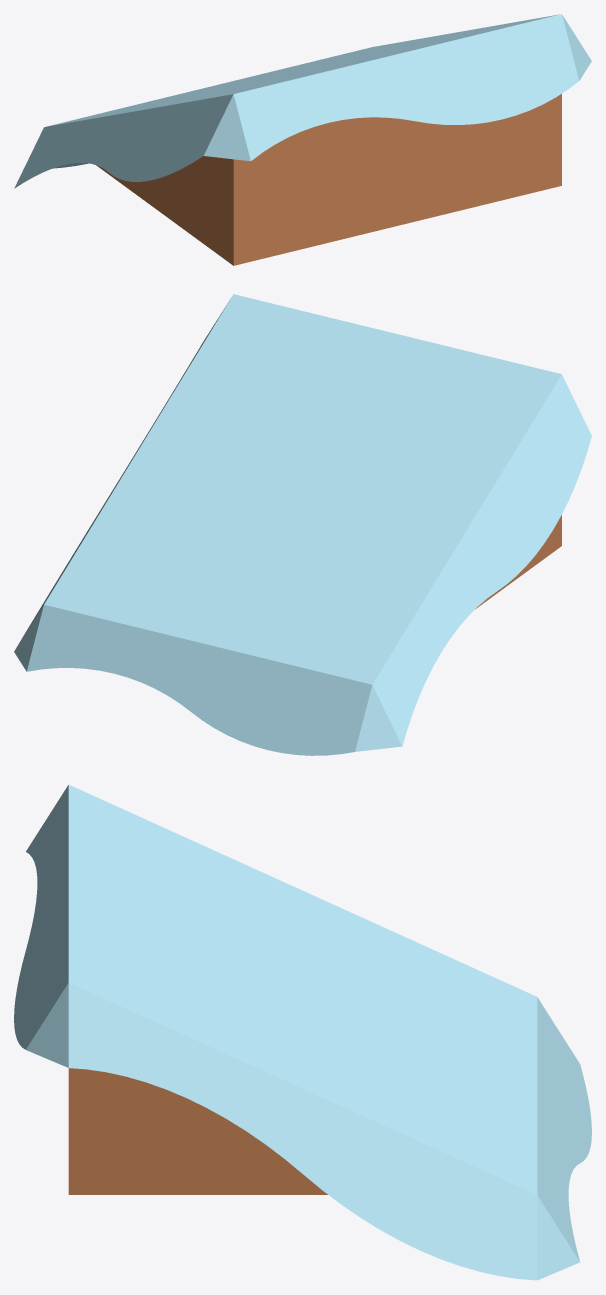
File: blockSnowSlopeHalf.glb
3 renders of one model, top to bottom at view 1: azimuth 30°, elevation 25°; view 2: azimuth 150°, elevation 25°; view 3: azimuth 270°, elevation 25°, orthographic. The views are drawn at different scales.
Parts seen in each view (by area): view 1: blockSnowSlopeHalf; view 2: blockSnowSlopeHalf; view 3: blockSnowSlopeHalf.
Part boxes in pixels (x1,y1,x2,y2): blockSnowSlopeHalf: [14, 14, 591, 265]; blockSnowSlopeHalf: [14, 294, 591, 755]; blockSnowSlopeHalf: [14, 784, 591, 1280].
Size of the model in its own units: 1.23 by 0.7018 by 1.23.
